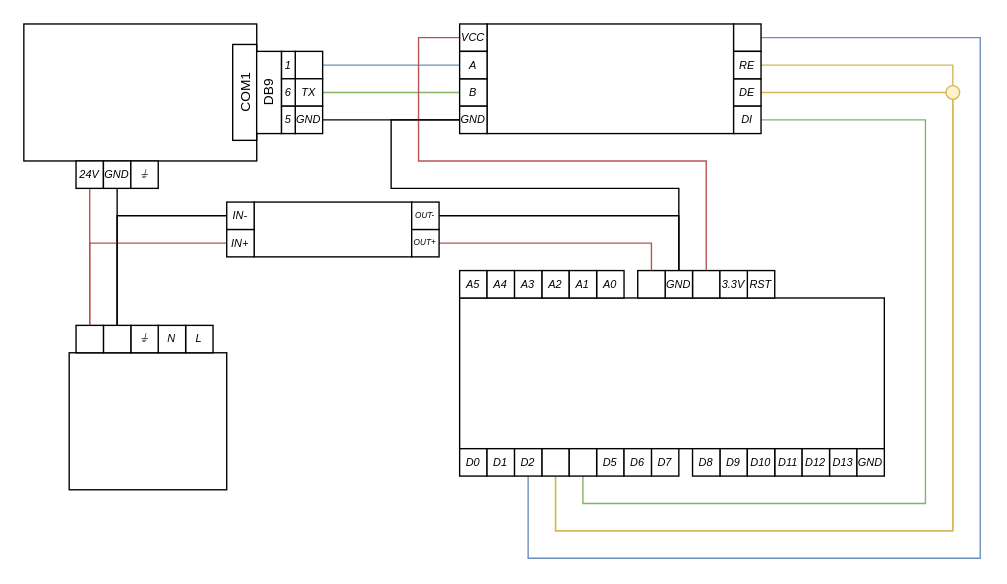
Image size: 1007x584. Some labels were removed from this diagram. Here are the shapes that lost their labels. From the top down, the box of each, then its label:
(732, 23, 761, 51): RO
(294, 50, 323, 79): RX
(486, 23, 734, 134): MAX485
(22, 23, 257, 161): HMI
(253, 201, 412, 257): Stepdown
(636, 269, 665, 298): VIN
(691, 269, 720, 298): 5V
(75, 324, 103, 353): V+
(102, 324, 131, 353): V-
(458, 297, 884, 449): Arduino Uno
(68, 351, 227, 490): PSU 24V
(540, 447, 569, 476): D3
(568, 447, 597, 476): D4
